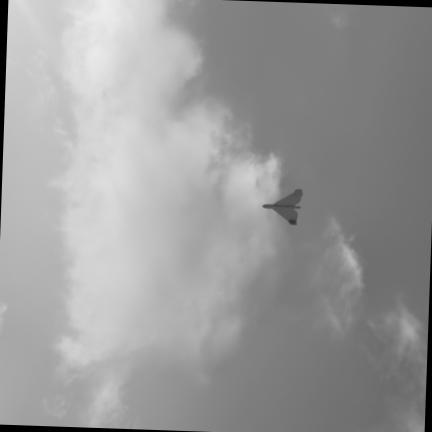Shahed: (262, 189, 301, 225)
